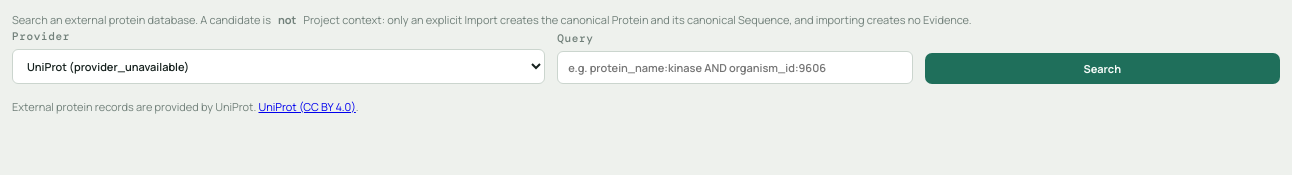
ProteinDiscoveryView › blocks the search and shows a non-destructive error when the provider is unavailable
Type "kinase" into the field named "Protein search query" at {"x": 735, "y": 67}, box [557,51,912,84]
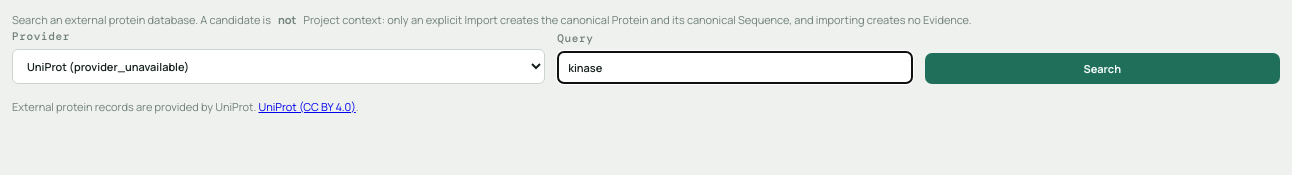
Click the button "Search" at {"x": 1102, "y": 68}, box [925,53,1280,84]
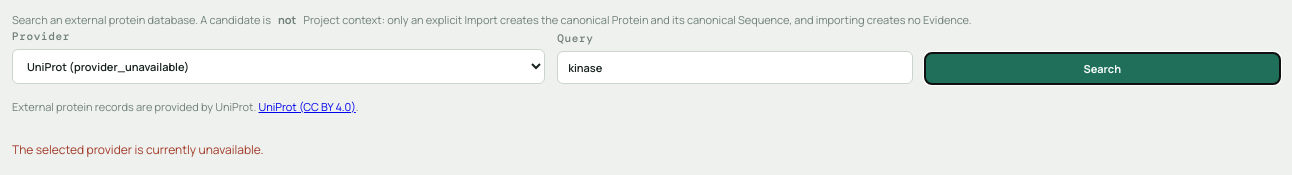
Now the text "The selected provider is currently unavailable." is shown, box [12,141,264,158]
